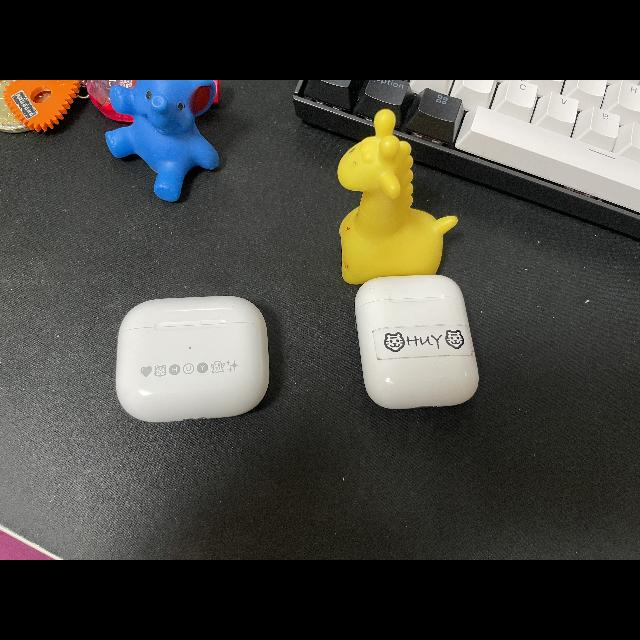airpod2: (354, 271, 484, 415)
airpod3: (113, 289, 277, 425)
